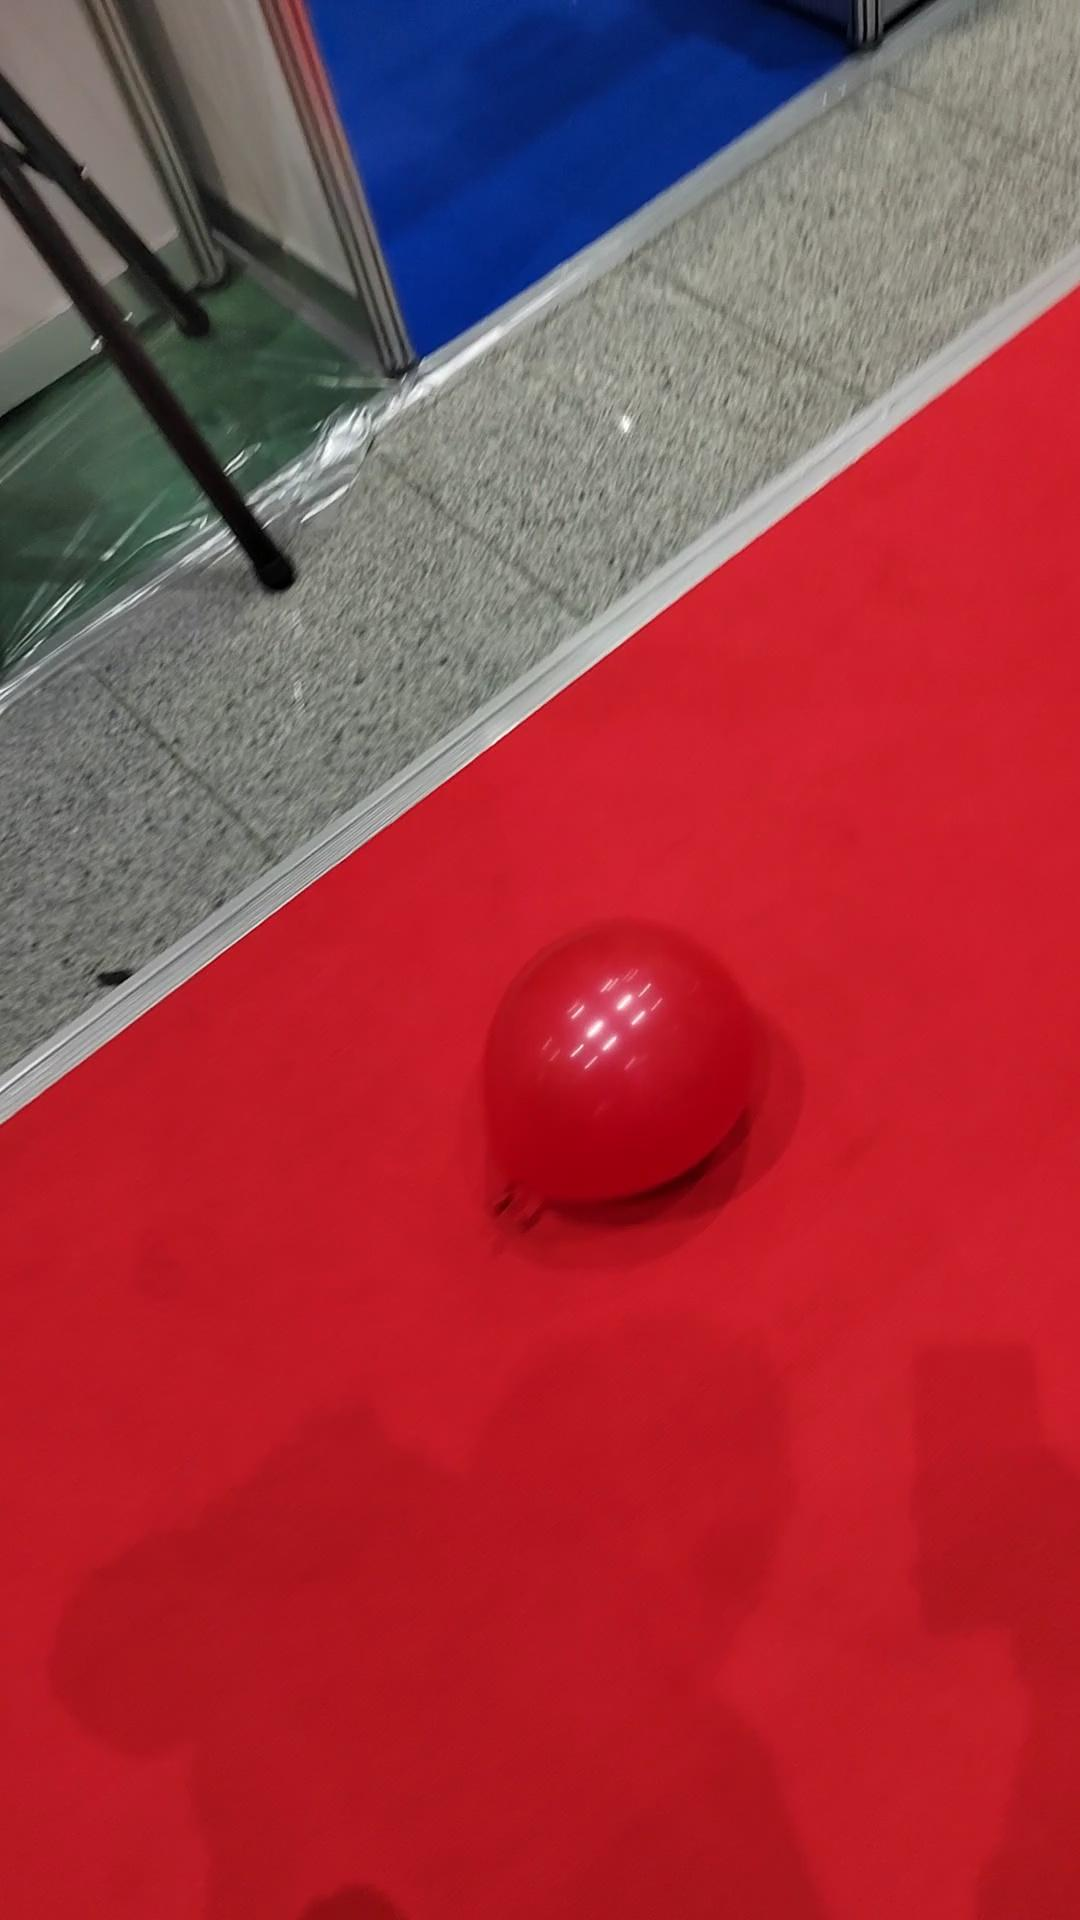red: (480, 922, 757, 1212)
